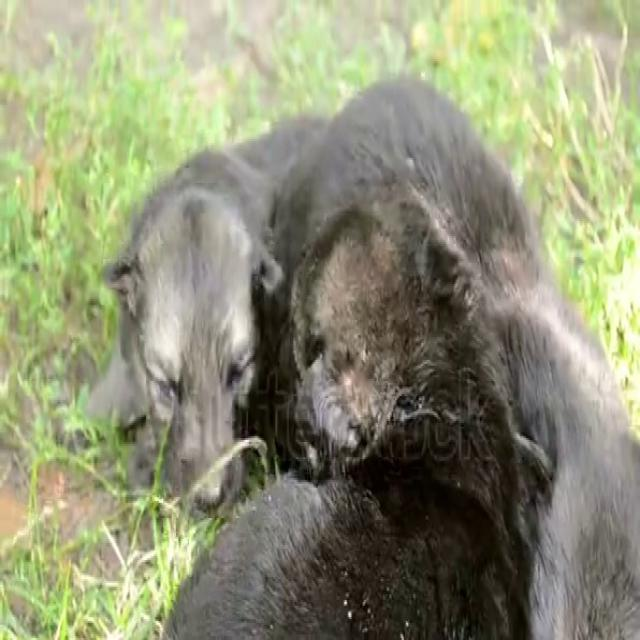normal_animals: (84, 71, 636, 636)
